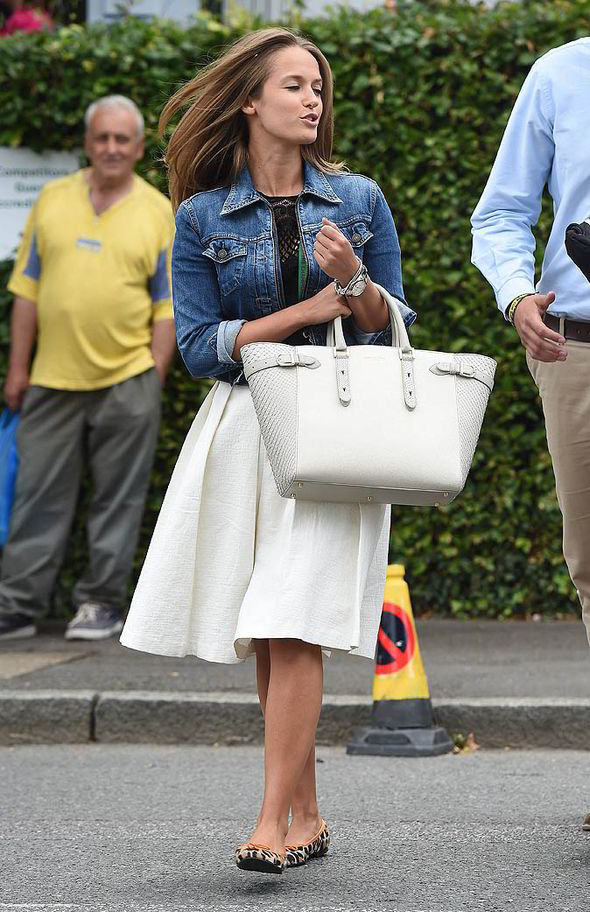Person: (151, 29, 410, 873), (6, 95, 160, 640)
